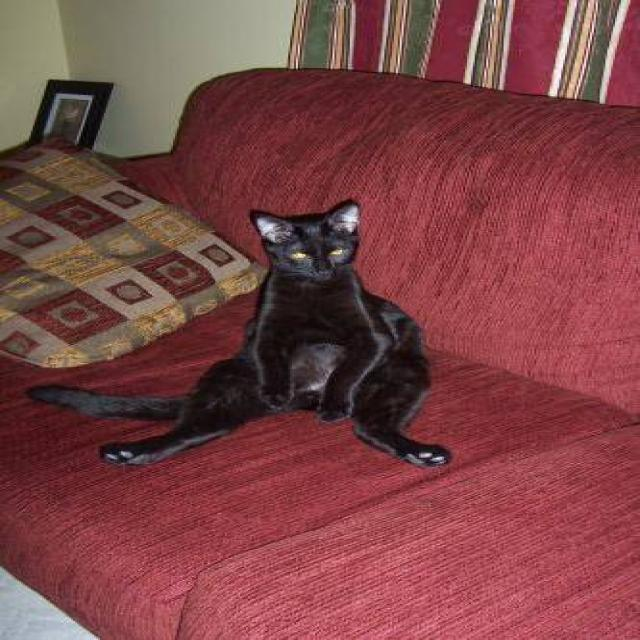cat: (25, 198, 452, 470)
